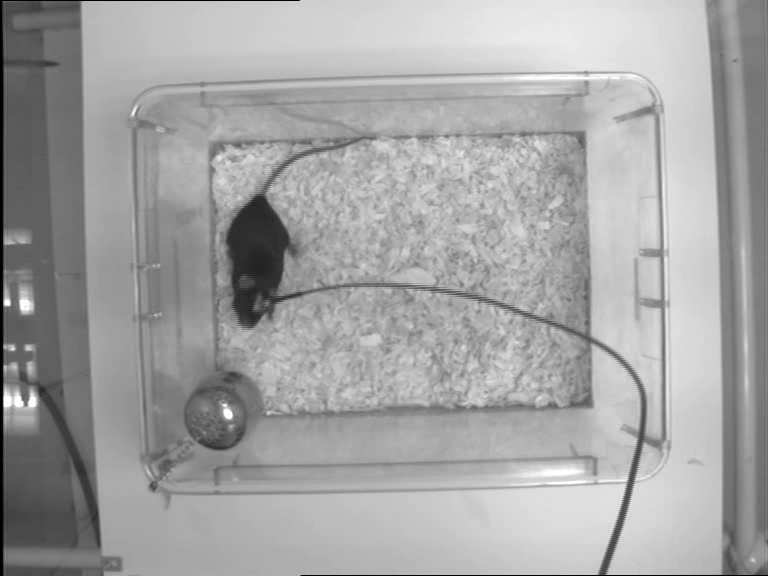mice: (227, 132, 366, 331)
